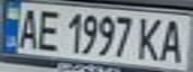1: (60, 9, 84, 54)
7: (112, 12, 136, 60)
9: (78, 10, 100, 55), (97, 11, 118, 57)
A: (157, 16, 190, 64), (12, 4, 42, 50)
E: (33, 6, 63, 52)
K: (133, 15, 166, 62)
